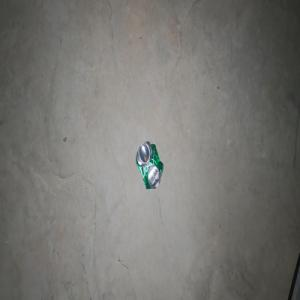SodaCan: (135, 140, 163, 189)
